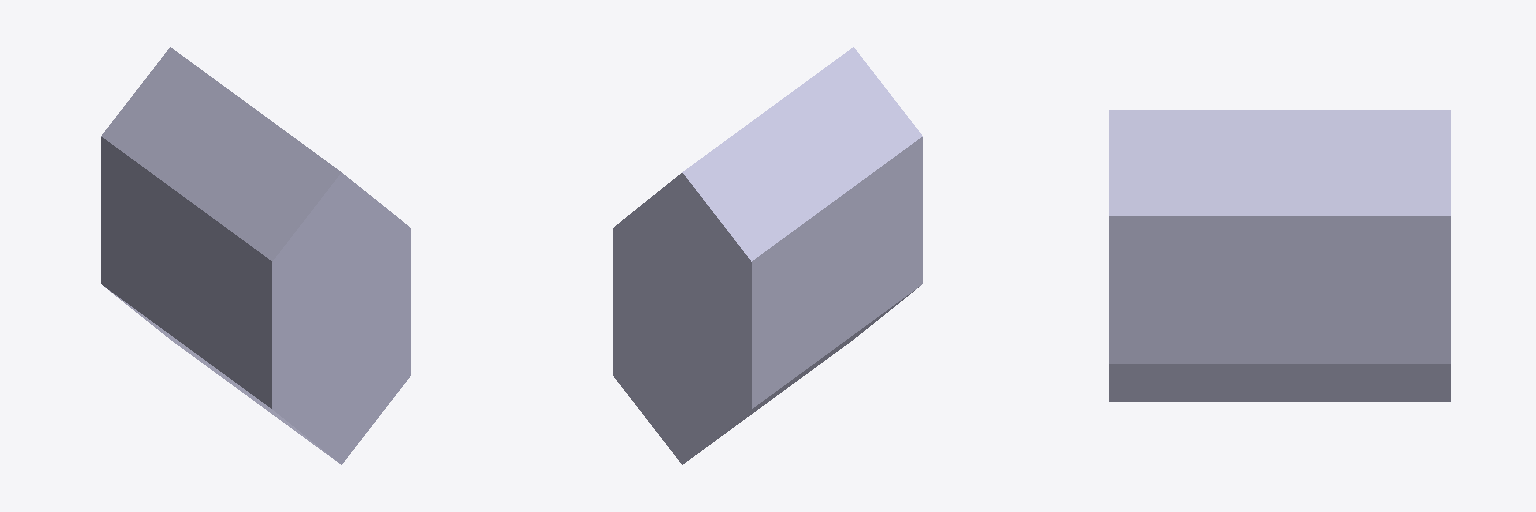
File: crocoite.obj
3 renders of one model, left to right at view 1: azimuth 30°, elevation 25°; view 2: azimuth 150°, elevation 25°; view 3: azimuth 270°, elevation 25°, orthographic.
Bounding box in the file's own units: 1.4 × 2.83 × 3.